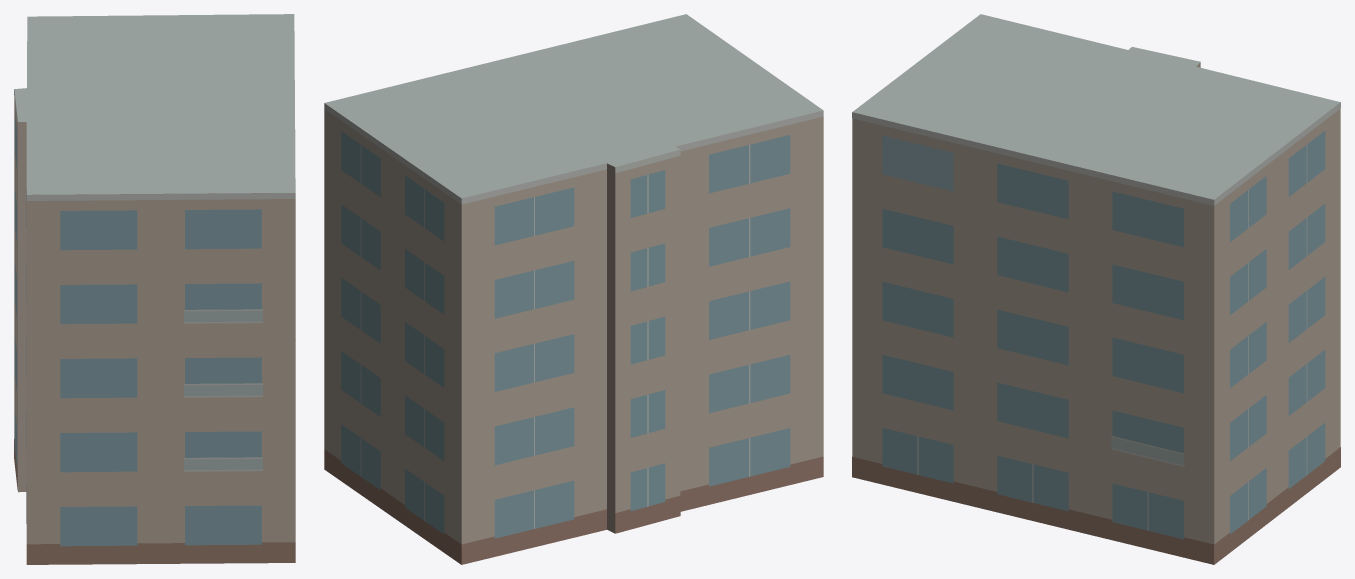
The model's file is survey-upis-32992202.glb.
The picture shows the model from 3 angles, left to right: view 1: azimuth 30°, elevation 25°; view 2: azimuth 150°, elevation 25°; view 3: azimuth 270°, elevation 25°; orthographic projection.
Parts seen in each view (by area): view 1: survey-upis-32992202.tmp; view 2: survey-upis-32992202.tmp; view 3: survey-upis-32992202.tmp.
Boxes of the visible parts, x1=… form: survey-upis-32992202.tmp: x1=14, y1=14, x2=295, y2=564; survey-upis-32992202.tmp: x1=324, y1=14, x2=823, y2=564; survey-upis-32992202.tmp: x1=852, y1=14, x2=1340, y2=564.
Size of the model in its own units: 16 by 14.65 by 17.78.
